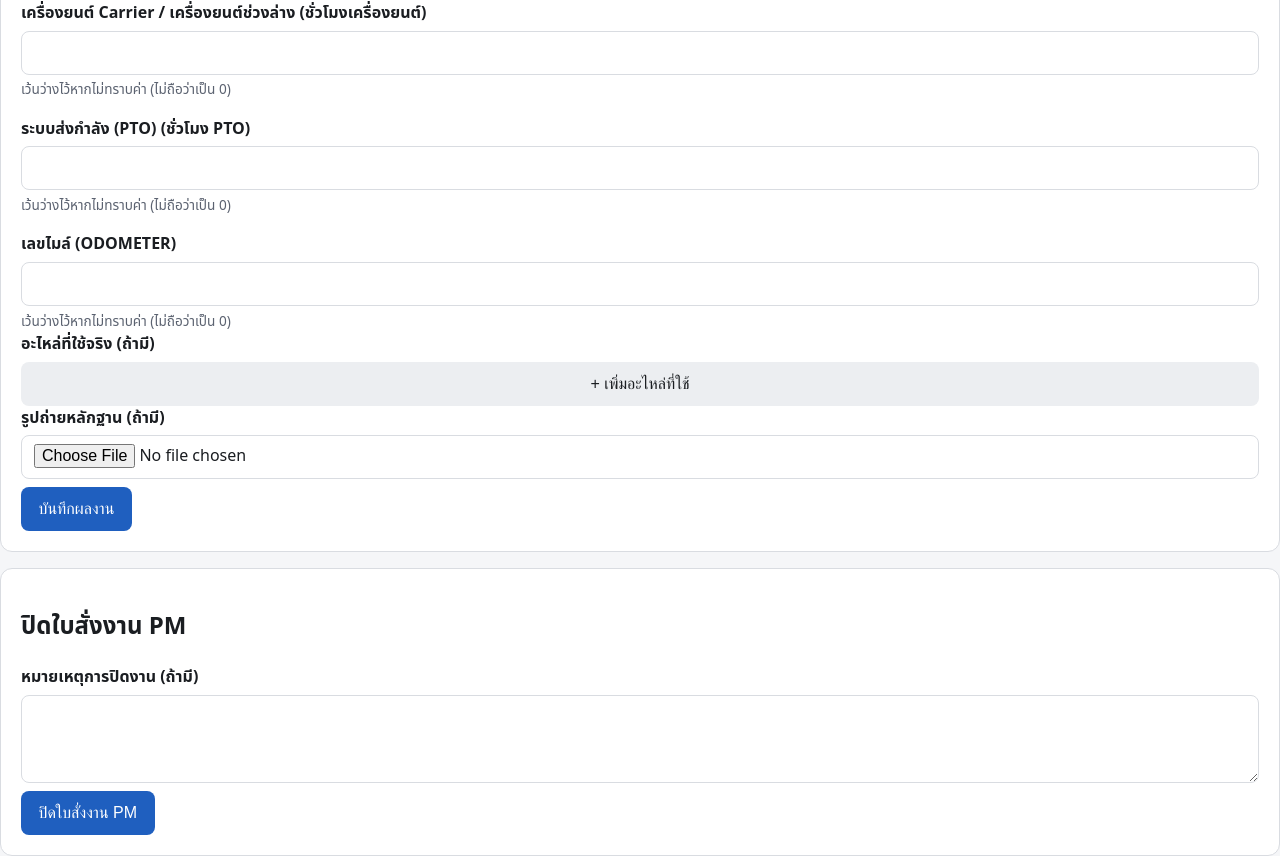
Test: PmWorkOrderDetailPage › submits a task result and shows it as an immutable completed record
(page scrolled)
Click the button "บันทึกผลงาน" at (76, 509), box [21, 487, 132, 531]
(page scrolled)
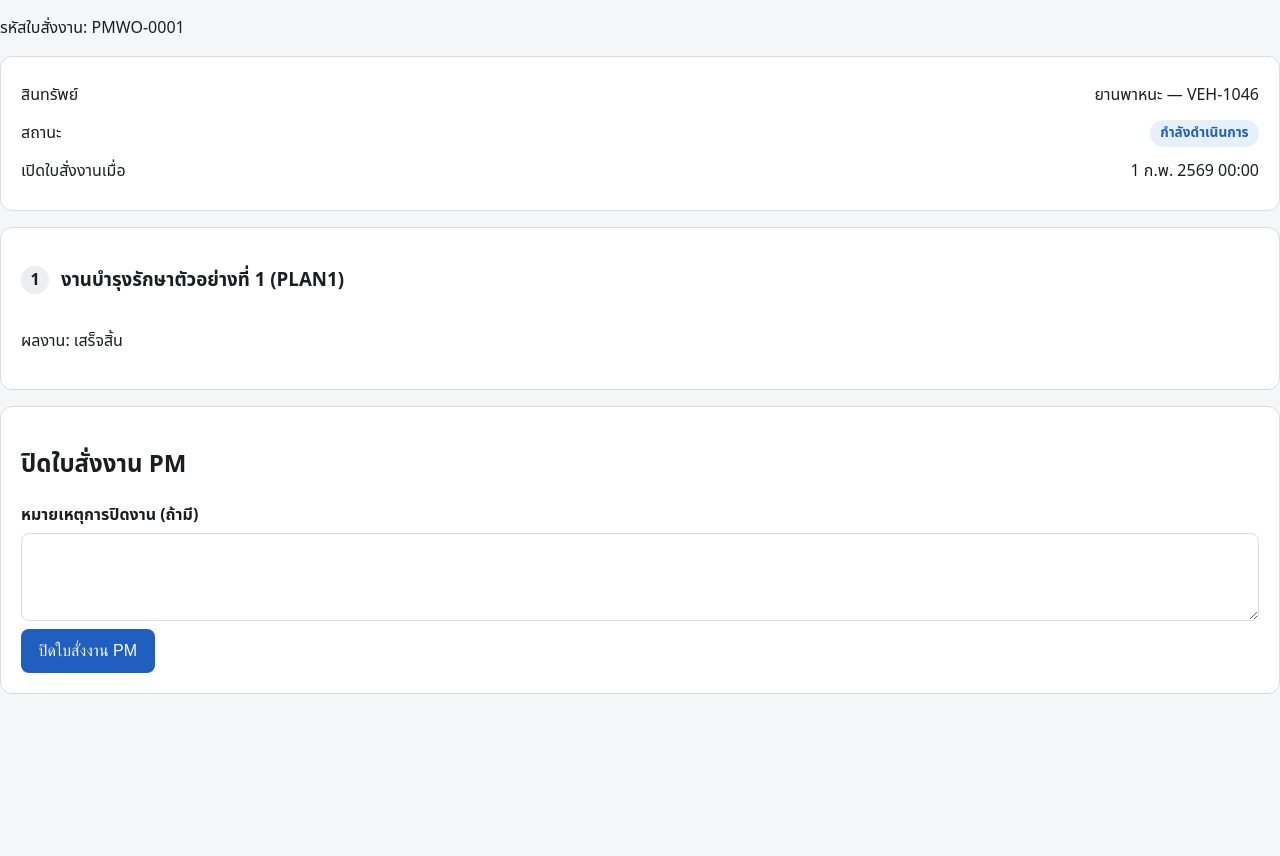
Check: the text "ผลงาน: เสร็จสิ้น" is shown, box [21, 329, 123, 353]
Check: the button "บันทึกผลงาน" is gone
